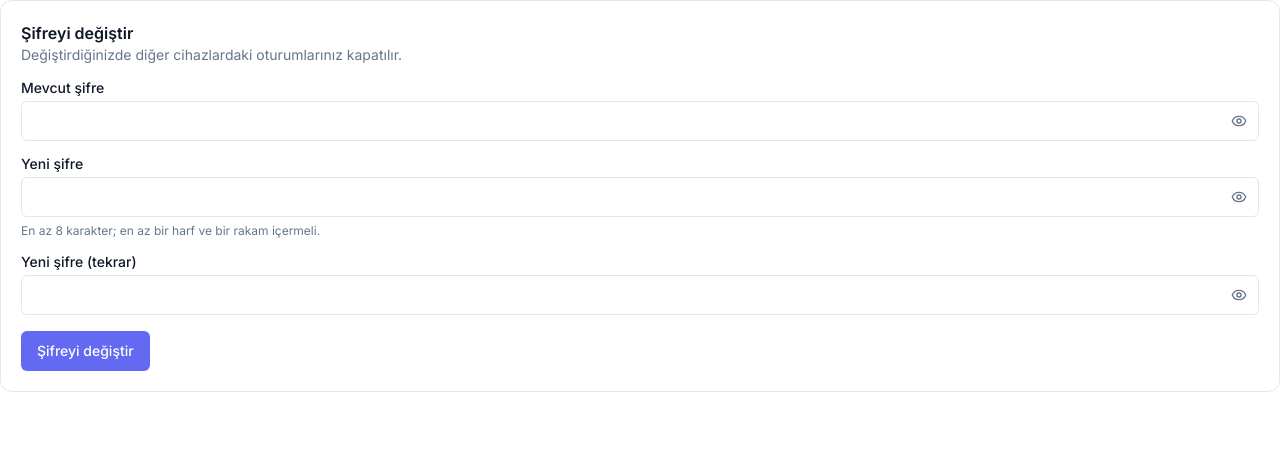
Test: GV-19: ChangePasswordSection › OAuth hesabı bilinmiyorsa backend 409 mesajı anlaşılır gösterilir
In the password field labelled "Mevcut şifre": point(640, 121) [21, 101, 1259, 141], type "Herhangi1"
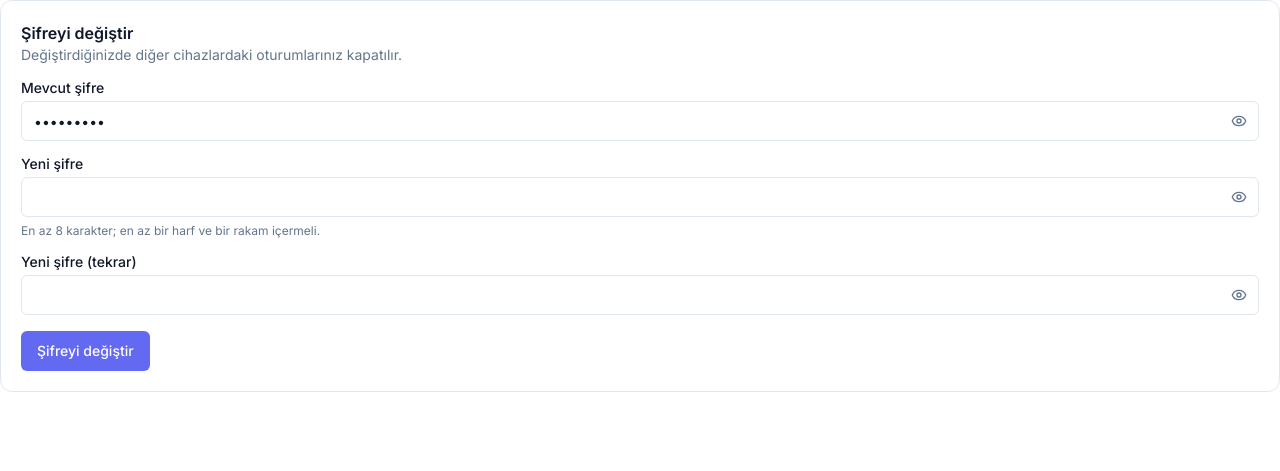
In the password field labelled "Yeni şifre": point(640, 197) [21, 177, 1259, 217], type "Yeni12345"
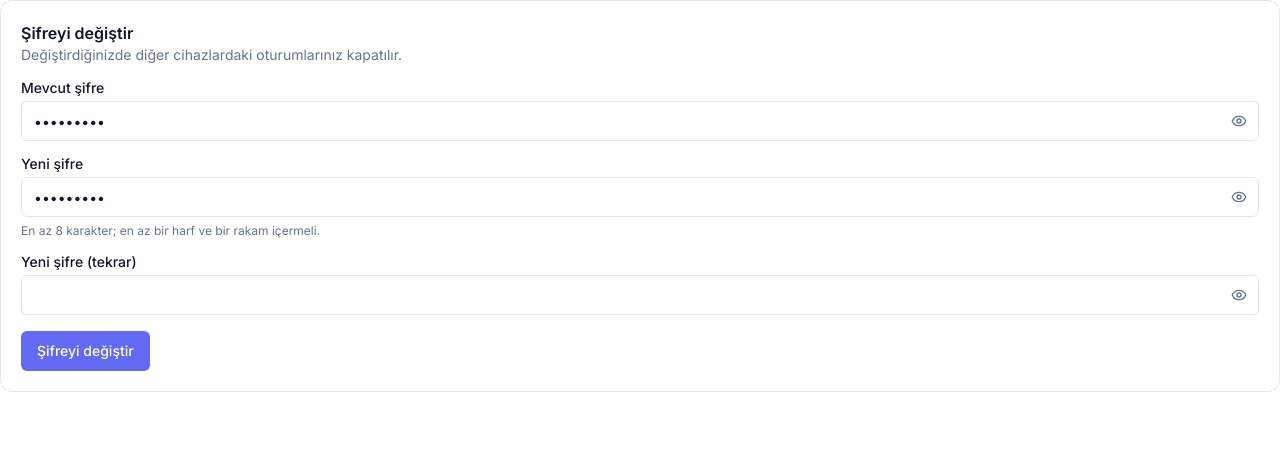
In the password field labelled "Yeni şifre (tekrar)": point(640, 295) [21, 275, 1259, 315], type "Yeni12345"
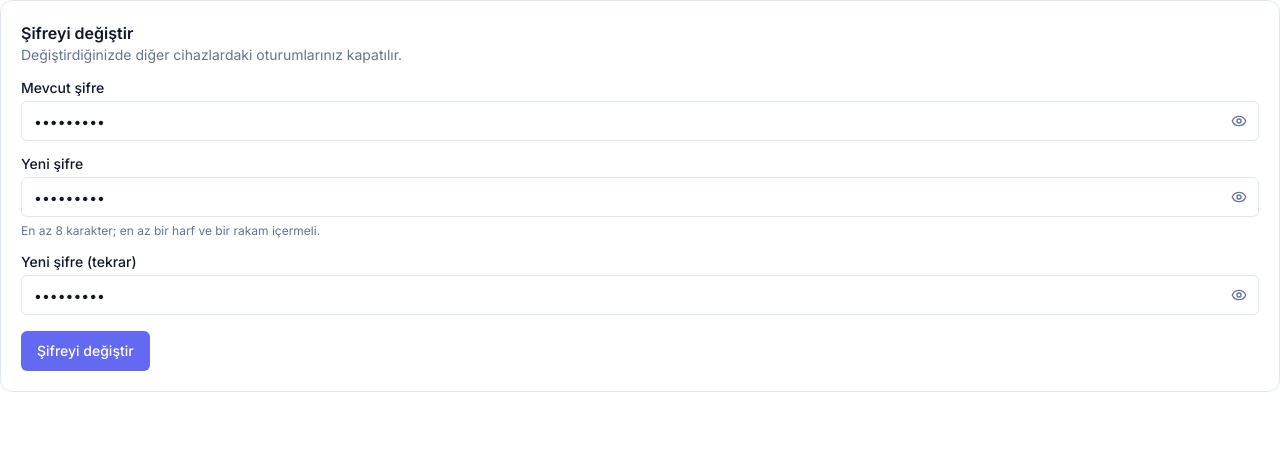
Click the button "Şifreyi değiştir": point(85, 351) [21, 331, 150, 371]
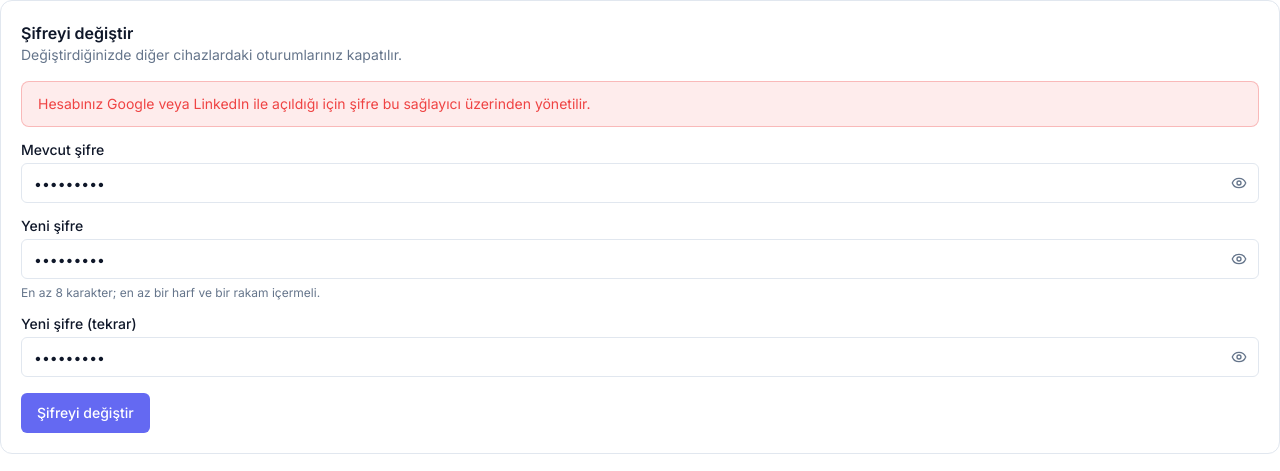
Expected: the text "Google veya LinkedIn" is shown, [38, 95, 590, 112]
